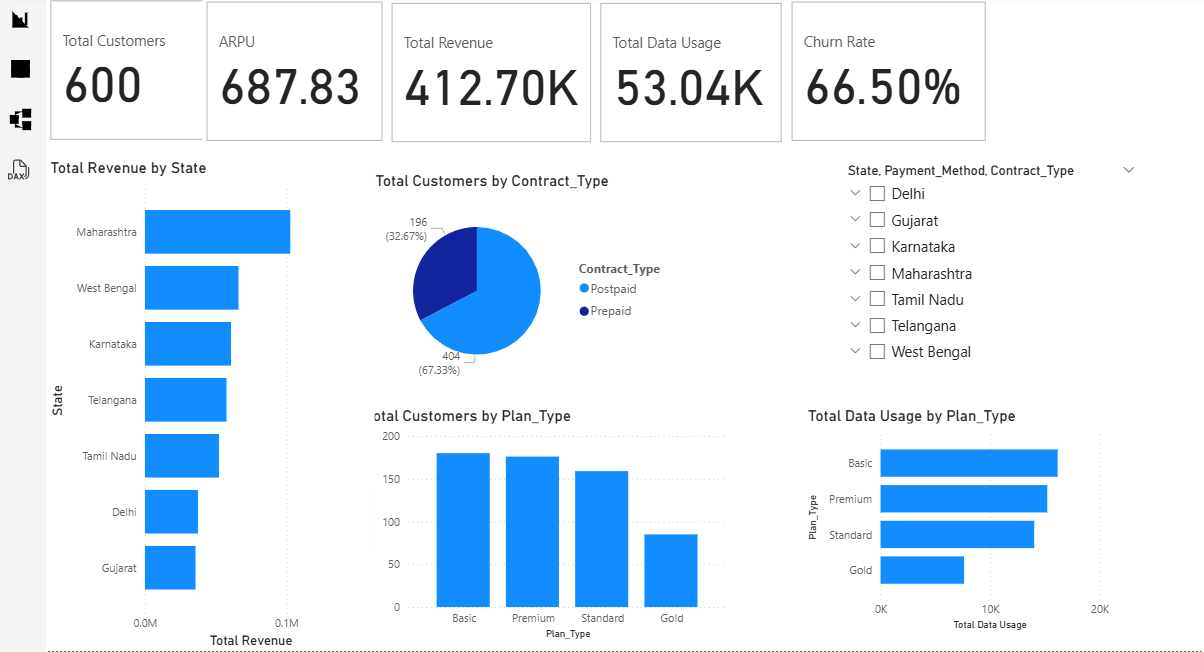

Layout of this report page (visuals, bound fields, positions):
{"tool":"powerbi","page":{"name":"Page 1","canvas":[1280,720],"ordinal":0},"visuals":[{"type":"cardVisual","fields":{"Data":["Fact_TelecomUsage.Total Customers"]},"box":[0,0,181.1,163.3],"z":0},{"type":"cardVisual","fields":{"Data":["Fact_TelecomUsage.Total Revenue"]},"box":[374.6,2.7,229.2,163.3],"z":1000},{"type":"cardVisual","fields":{"Data":["Fact_TelecomUsage.ARPU"]},"box":[171.5,1.4,203.1,163.3],"z":2000},{"type":"cardVisual","fields":{"Data":["Fact_TelecomUsage.Total Data Usage"]},"box":[603.8,2.7,209.9,163.3],"z":3000},{"type":"columnChart","fields":{"Category":["Dim_Plan.Plan_Type"],"Y":["Fact_TelecomUsage.Total Customers"]},"box":[345.8,450.1,407.5,260.7],"z":4000},{"type":"clusteredBarChart","fields":{"Category":["Dim_Customer.State"],"Y":["Fact_TelecomUsage.Total Revenue"]},"box":[0,178.4,360.9,542],"z":5000},{"type":"pieChart","fields":{"Category":["Dim_Customer.Contract_Type"],"Y":["Fact_TelecomUsage.Total Customers"]},"box":[356.8,192.1,338.9,244.3],"z":7000},{"type":"slicer","fields":{"Values":["Dim_Customer.State","Dim_Customer.Payment_Method","Dim_Customer.Contract_Type"]},"box":[867.2,178.4,340.3,249.7],"z":7001},{"type":"clusteredBarChart","fields":{"Category":["Dim_Plan.Plan_Type"],"Y":["Fact_TelecomUsage.Total Data Usage"]},"box":[831.6,450.1,340.3,251.1],"z":7002},{"type":"cardVisual","fields":{"Data":["Fact_TelecomUsage.Churn Rate"]},"box":[813.7,1.4,223.7,163.3],"z":7003}]}

Visuals, with their boxes on the page's 1280x720 design canvas (x1, y1, x2, y2). These are canvas units, not pixel positions in the 1204x652 screenshot, which may show the page scaled, cropped or inside an application window:
cardVisual - Fact_TelecomUsage.Total Customers: <bbox>0, 0, 181, 163</bbox>
cardVisual - Fact_TelecomUsage.Total Revenue: <bbox>375, 3, 604, 166</bbox>
cardVisual - Fact_TelecomUsage.ARPU: <bbox>172, 1, 375, 165</bbox>
cardVisual - Fact_TelecomUsage.Total Data Usage: <bbox>604, 3, 814, 166</bbox>
columnChart - Dim_Plan.Plan_Type x Fact_TelecomUsage.Total Customers: <bbox>346, 450, 753, 711</bbox>
clusteredBarChart - Dim_Customer.State x Fact_TelecomUsage.Total Revenue: <bbox>0, 178, 361, 720</bbox>
pieChart - Dim_Customer.Contract_Type x Fact_TelecomUsage.Total Customers: <bbox>357, 192, 696, 436</bbox>
slicer - Dim_Customer.State x Dim_Customer.Payment_Method: <bbox>867, 178, 1208, 428</bbox>
clusteredBarChart - Dim_Plan.Plan_Type x Fact_TelecomUsage.Total Data Usage: <bbox>832, 450, 1172, 701</bbox>
cardVisual - Fact_TelecomUsage.Churn Rate: <bbox>814, 1, 1037, 165</bbox>
